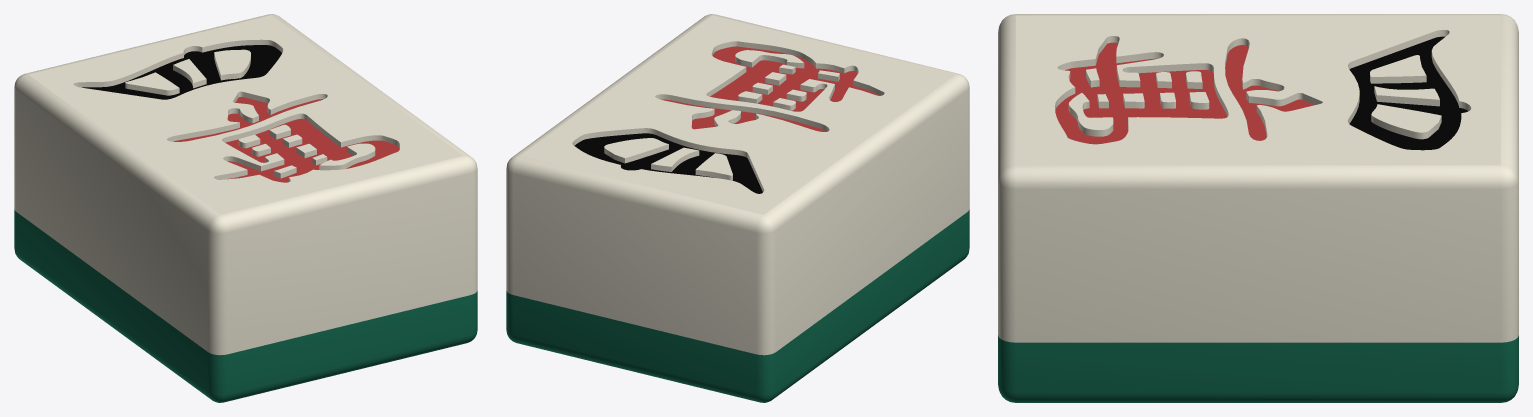
The model's file is Man4.glb.
The picture shows the model from 3 angles, left to right: view 1: azimuth 30°, elevation 25°; view 2: azimuth 150°, elevation 25°; view 3: azimuth 270°, elevation 25°; orthographic projection. The views are drawn at different scales.
Visible parts, largest first — view 1: Man4_body, Man4_inset; view 2: Man4_body, Man4_inset; view 3: Man4_body, Man4_inset.
Part boxes in pixels (box(x1,y1,x2,y2)): Man4_body: box(14, 14, 477, 402); Man4_inset: box(82, 45, 399, 182); Man4_body: box(506, 14, 969, 402); Man4_inset: box(574, 46, 879, 193); Man4_body: box(998, 14, 1518, 402); Man4_inset: box(1055, 36, 1468, 150).
Bounding box in the file's own units: 0.024 × 0.016 × 0.032.
